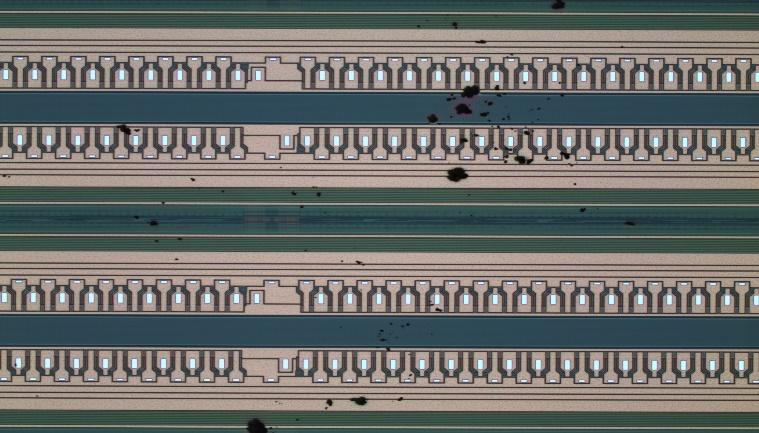PO CONTAMINATION: (89, 1, 627, 433)
